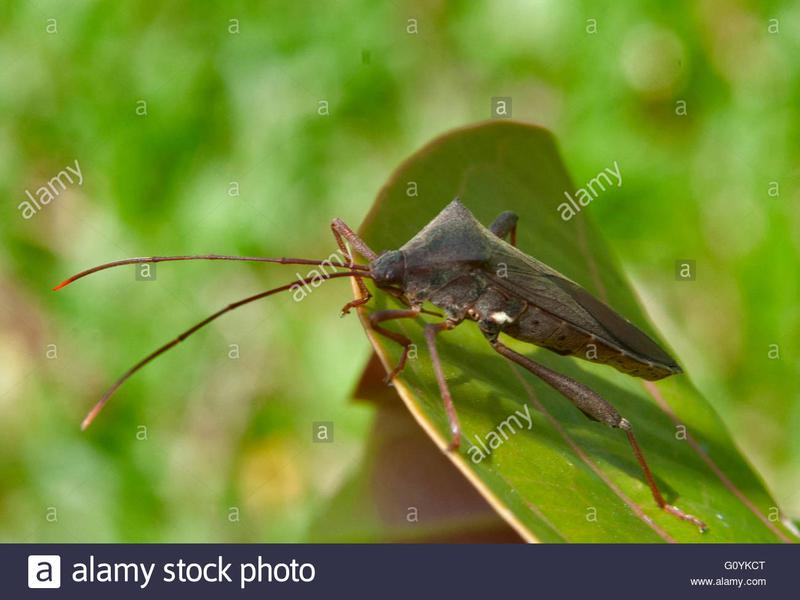Rice_earhead_bug: (270, 198, 703, 472)
